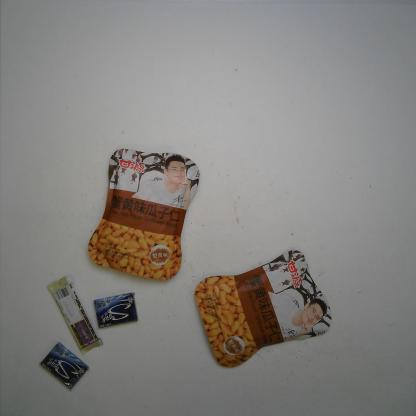Chocolate: (48, 277, 104, 354)
Dried Fruit: (193, 251, 335, 369), (87, 148, 202, 280)
Gum: (39, 342, 87, 392), (95, 292, 138, 329)
